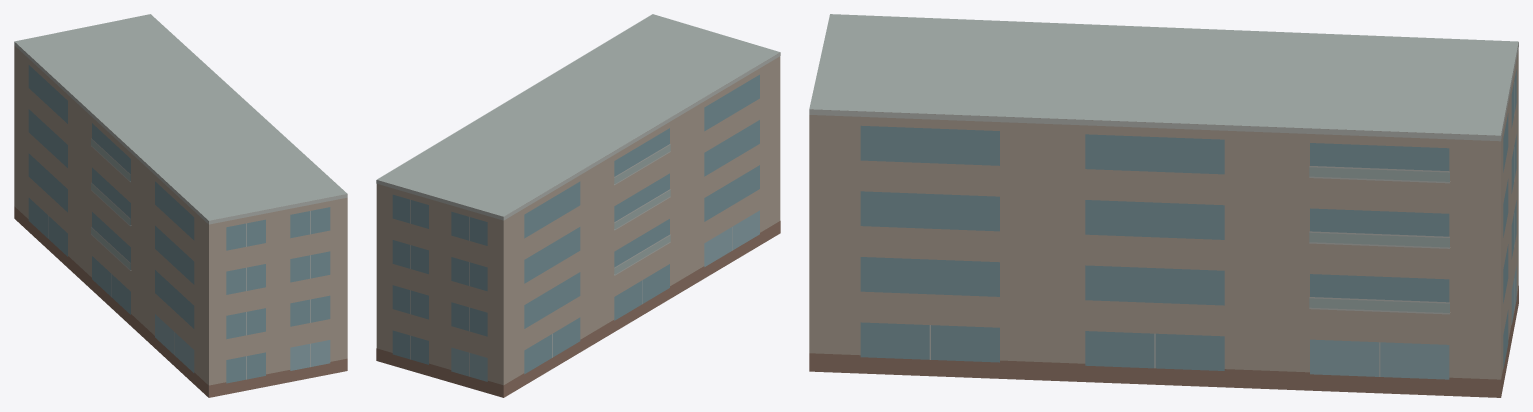
The model's file is survey-upis-32802834.glb.
The picture shows the model from 3 angles, left to right: view 1: azimuth 30°, elevation 25°; view 2: azimuth 150°, elevation 25°; view 3: azimuth 270°, elevation 25°; orthographic projection. The views are drawn at different scales.
Parts seen in each view (by area): view 1: survey-upis-32802834.tmp; view 2: survey-upis-32802834.tmp; view 3: survey-upis-32802834.tmp.
Part boxes in pixels (x1=…): survey-upis-32802834.tmp: x1=14, y1=14, x2=347, y2=397; survey-upis-32802834.tmp: x1=376, y1=14, x2=780, y2=397; survey-upis-32802834.tmp: x1=809, y1=14, x2=1518, y2=397.
Bounding box in the file's own units: 11.45 × 11.5 × 28.21.
